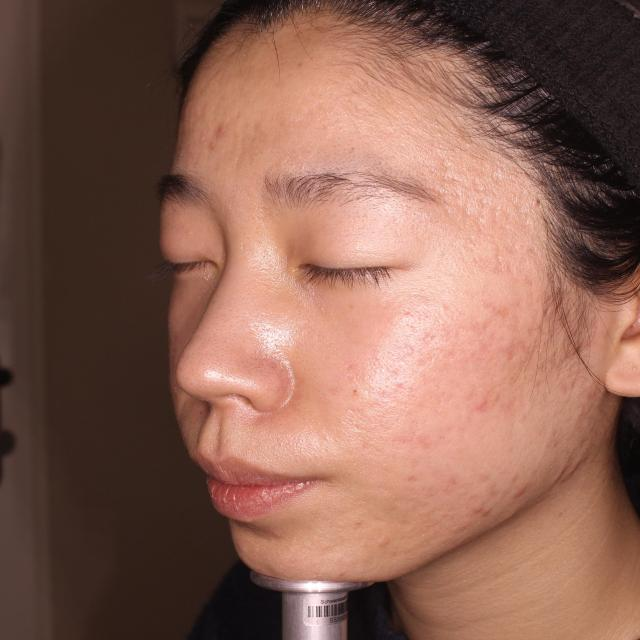acne: (205, 120, 237, 144), (476, 390, 500, 417), (509, 474, 527, 509), (462, 497, 489, 519), (489, 305, 512, 320), (505, 342, 522, 359)
